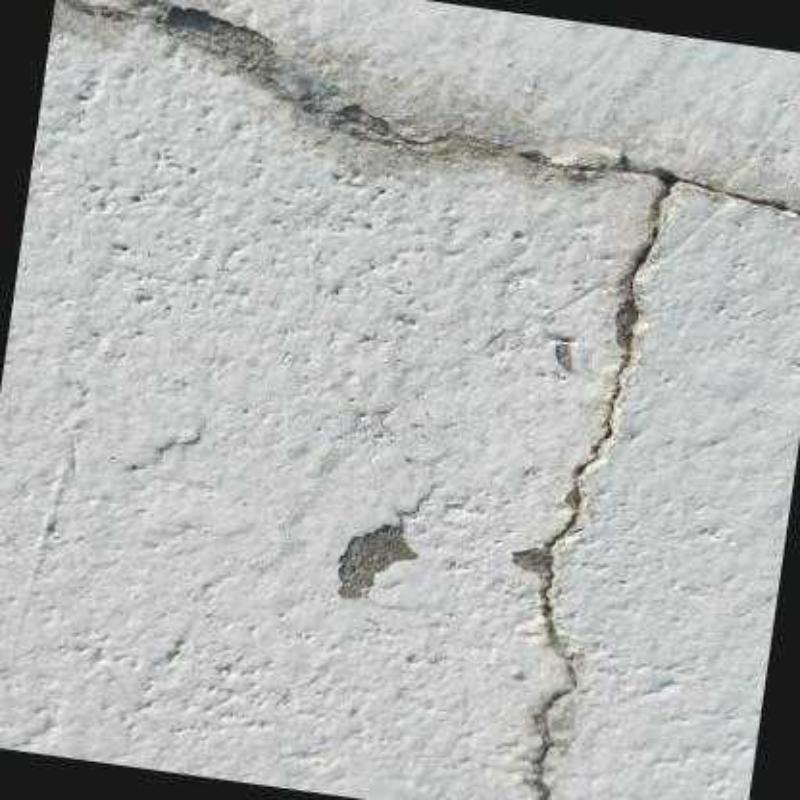pothole: (60, 0, 798, 798), (396, 485, 437, 535)
